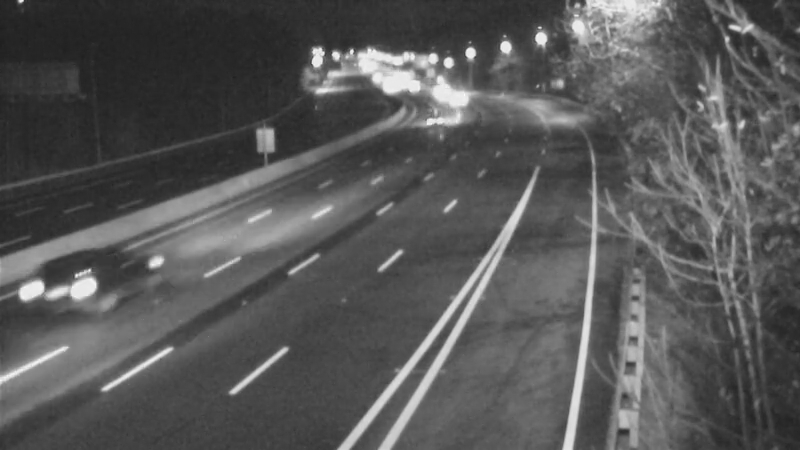vehicle: (22, 245, 102, 325), (410, 64, 460, 114), (440, 74, 490, 124), (411, 93, 461, 143)
